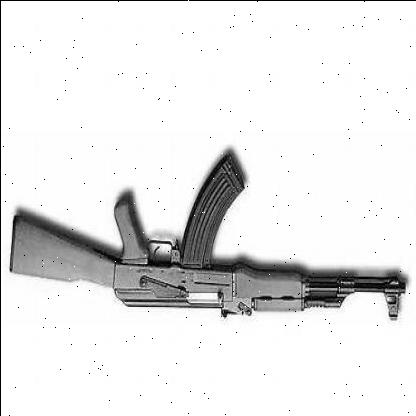rifle: (6, 139, 410, 329)
